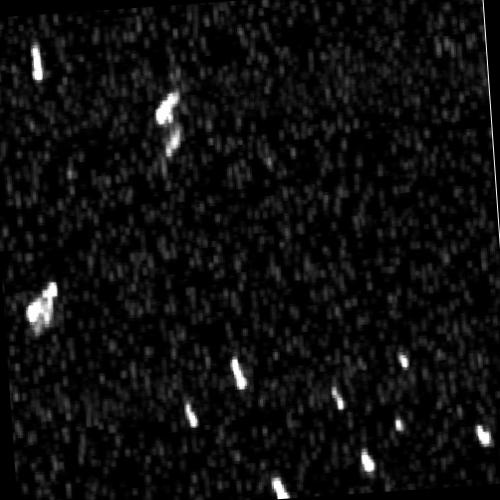ship: (24, 277, 59, 330), (153, 86, 180, 125), (164, 124, 183, 161), (229, 355, 248, 392), (182, 398, 199, 432), (472, 420, 493, 445), (30, 41, 43, 79), (270, 475, 291, 498), (359, 447, 376, 475), (331, 384, 347, 411), (395, 348, 410, 369), (393, 414, 405, 432)
